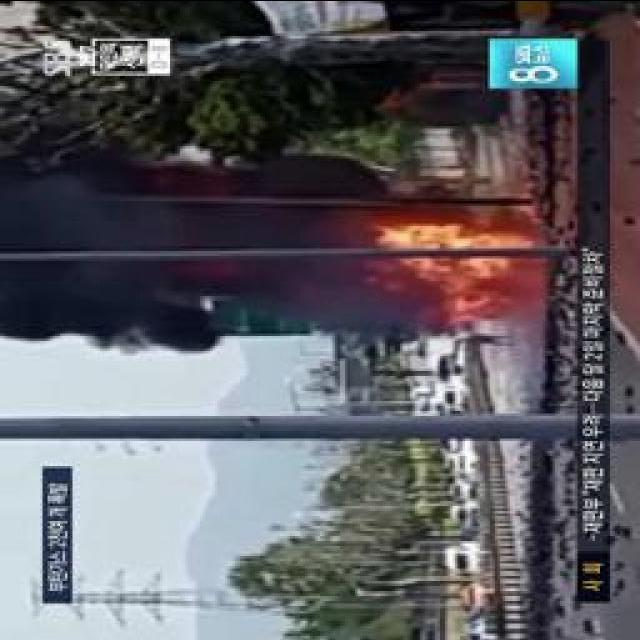Fire: (403, 205, 549, 304)
